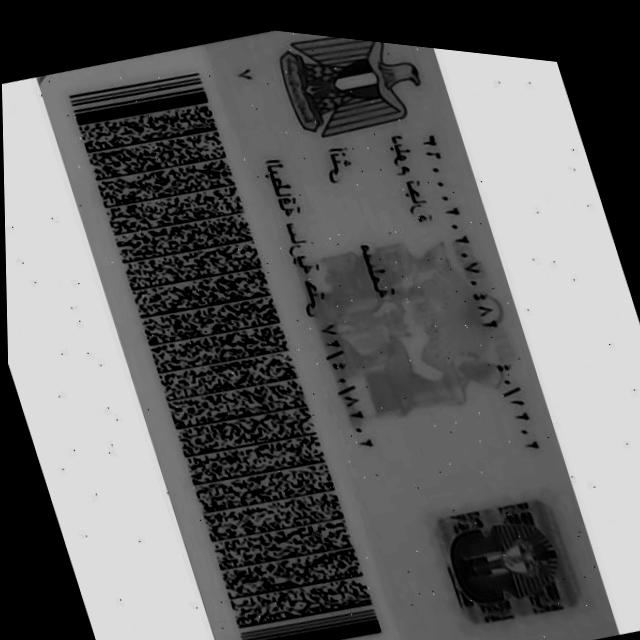id_card: (43, 31, 617, 640)
